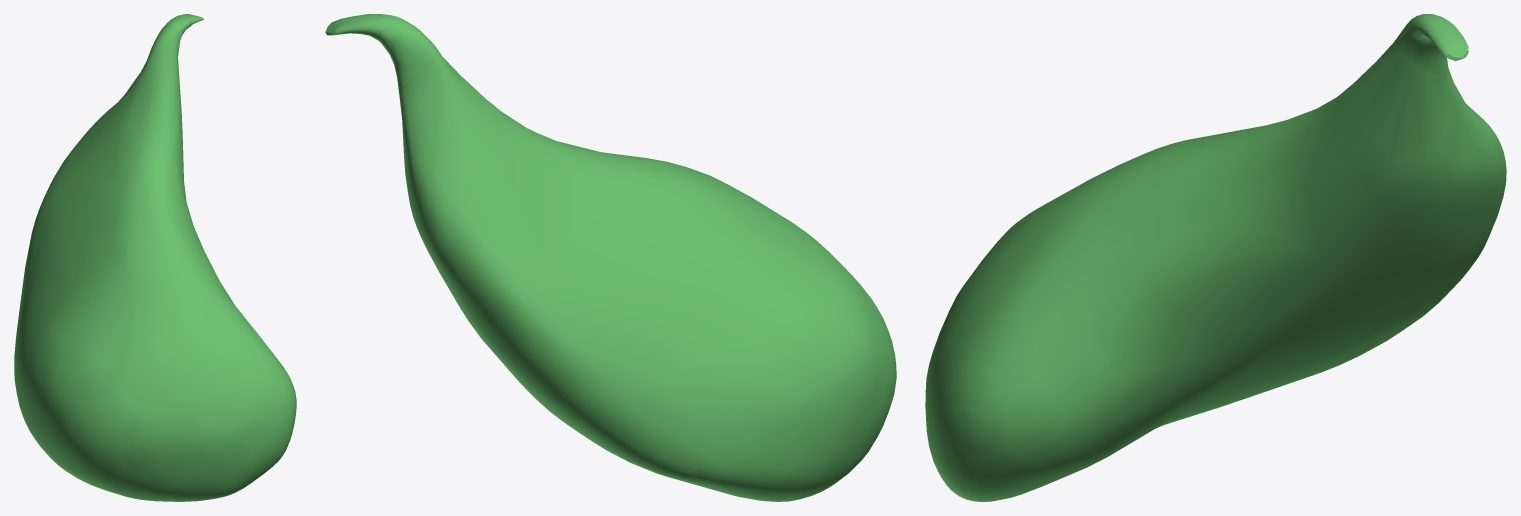
File: galbladder.glb
The picture shows the model from 3 angles, left to right: view 1: azimuth 30°, elevation 25°; view 2: azimuth 150°, elevation 25°; view 3: azimuth 270°, elevation 25°; orthographic projection. The views are drawn at different scales.
Visible parts, largest first — view 1: FJ88_BP4609_FMA7202_Gallbladder; view 2: FJ88_BP4609_FMA7202_Gallbladder; view 3: FJ88_BP4609_FMA7202_Gallbladder.
Boxes of the visible parts, <box> form: FJ88_BP4609_FMA7202_Gallbladder: <box>14,14,296,501</box>; FJ88_BP4609_FMA7202_Gallbladder: <box>325,14,896,501</box>; FJ88_BP4609_FMA7202_Gallbladder: <box>925,14,1506,501</box>.
Size of the model in its own units: 0.0644 by 0.0828 by 0.0783.
